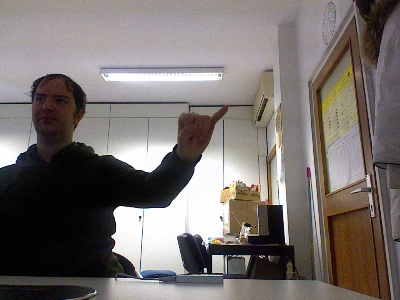小指: (174, 103, 229, 156)
